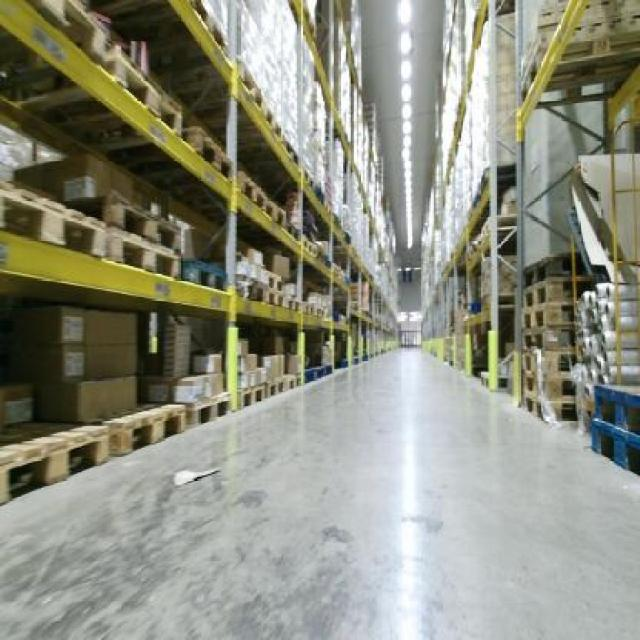ground: (0, 346, 638, 638)
pallet: (519, 252, 579, 433), (0, 414, 110, 506), (0, 174, 109, 259), (107, 40, 187, 140), (31, 0, 111, 65), (100, 402, 185, 457), (234, 59, 286, 147), (104, 222, 181, 277), (187, 118, 237, 186), (591, 414, 638, 485), (237, 172, 290, 232), (588, 382, 638, 439), (236, 370, 300, 411), (236, 276, 302, 313), (185, 391, 235, 433), (184, 252, 232, 291), (303, 361, 335, 384), (301, 234, 321, 259)
